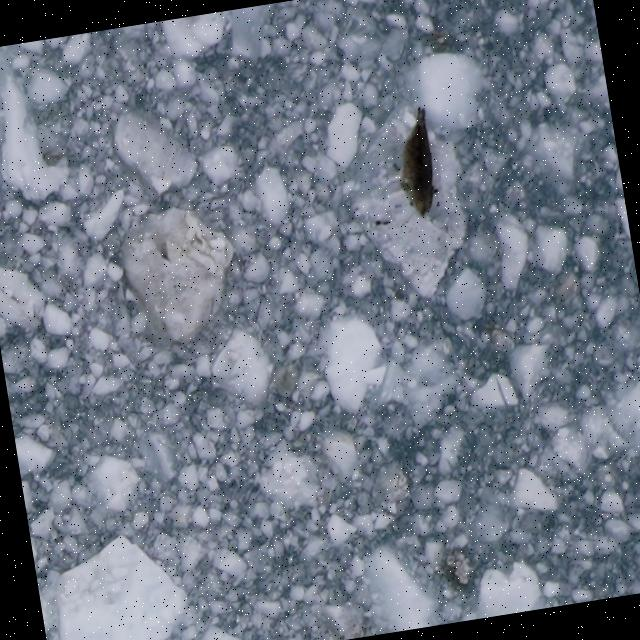seal: (380, 101, 447, 224)
